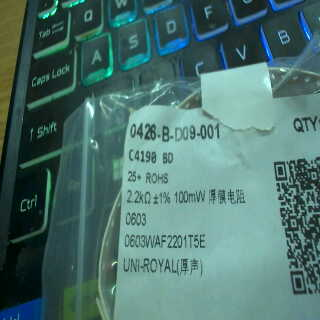2.2kR: (123, 186, 152, 207)
